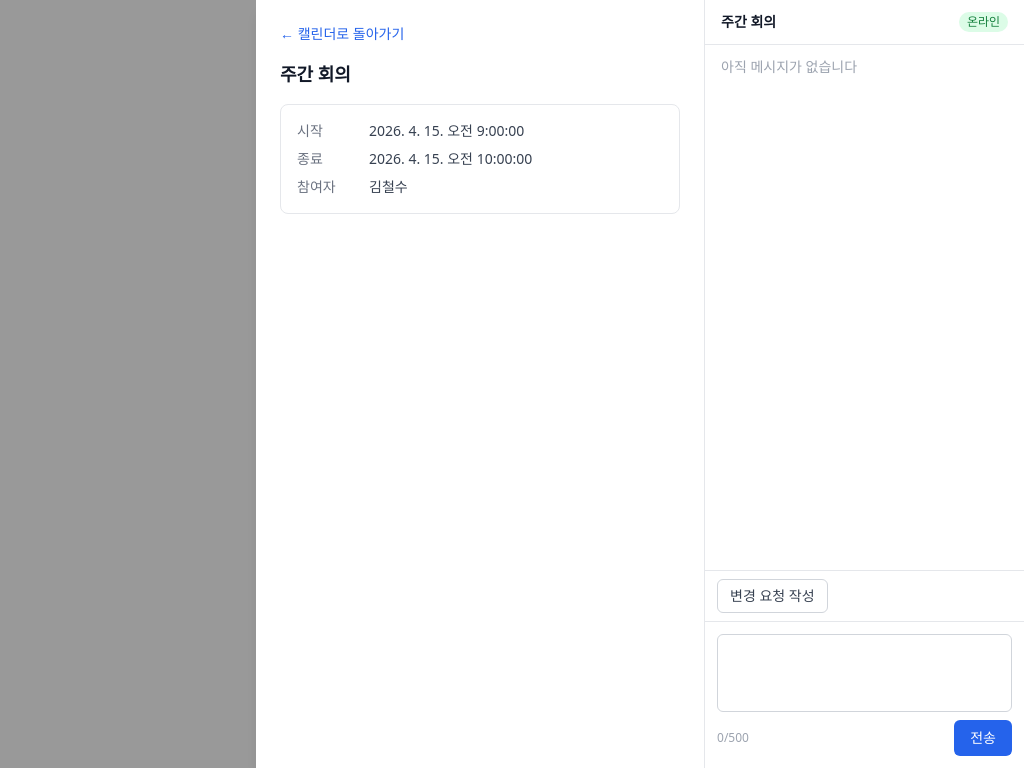
Scenario: ScheduleChatPanel - 변경 요청 › 변경 요청 제출에 성공하면 모달이 닫히고 대기중 카드가 메시지 목록에 표시된다
Step 1. Click the button "변경 요청 작성" → (772,596), box [717,579,828,613]
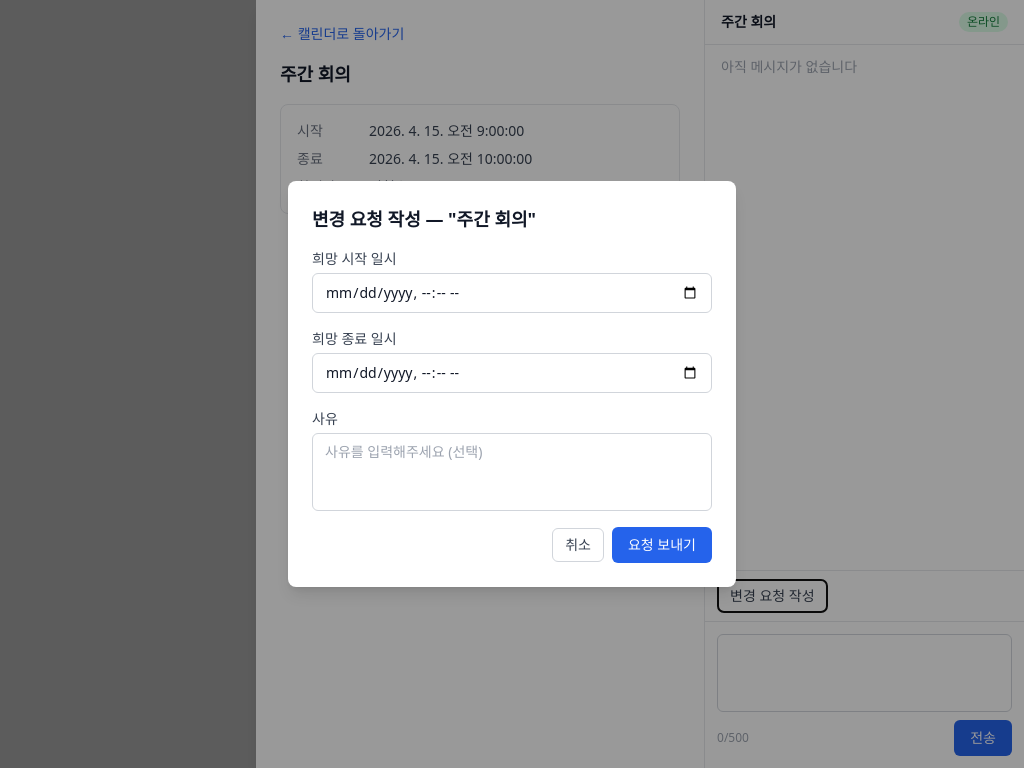
Step 2. Type "2026-04-20T09:00" into the field labelled "희망 시작 일시" → (512,293), box [312,273,712,313]
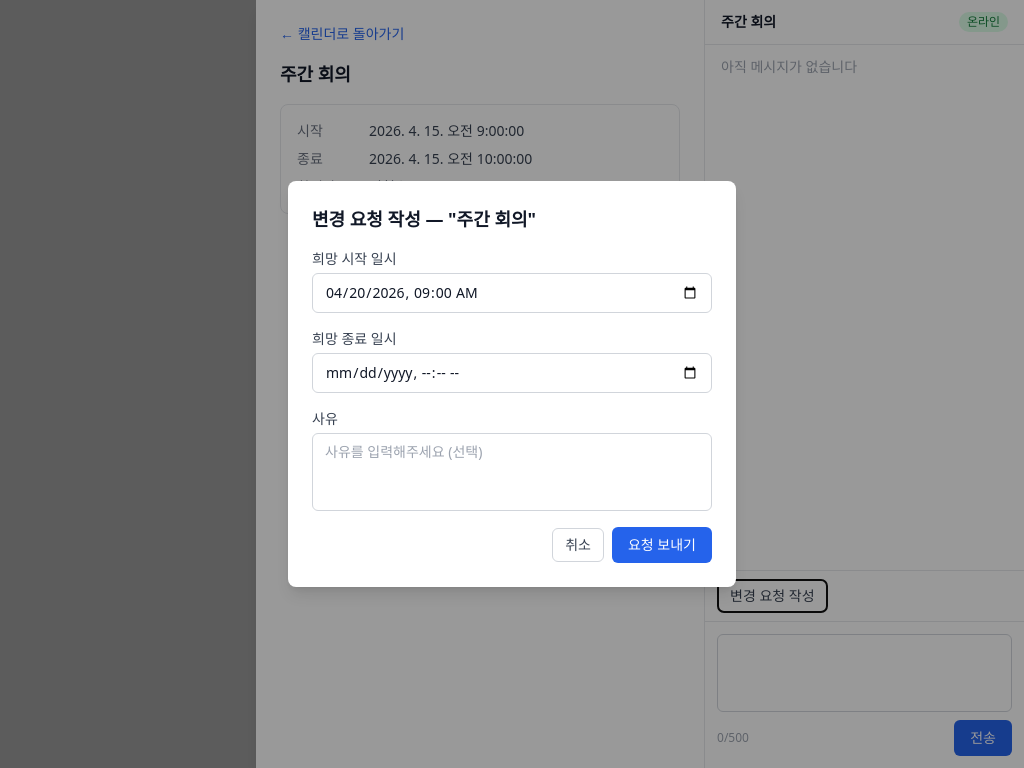
Step 3. Type "2026-04-20T10:00" into the field labelled "희망 종료 일시" → (512,373), box [312,353,712,393]
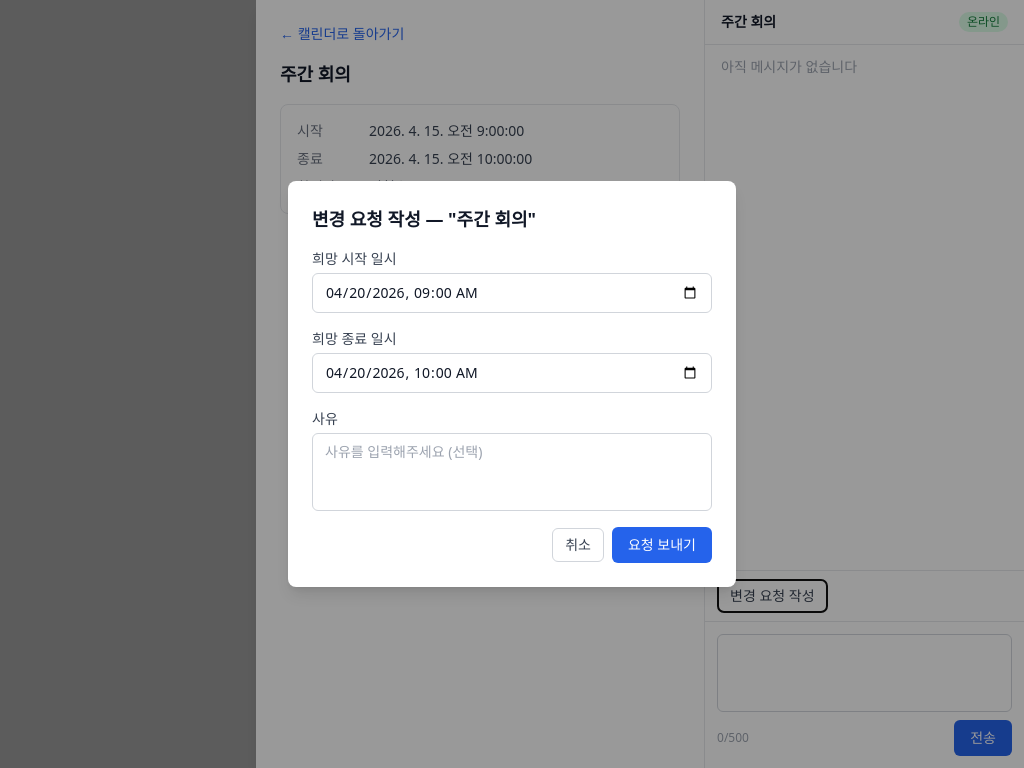
Step 4. Type "회의실 변경 필요" into the text box labelled "사유" → (512,472), box [312,433,712,511]
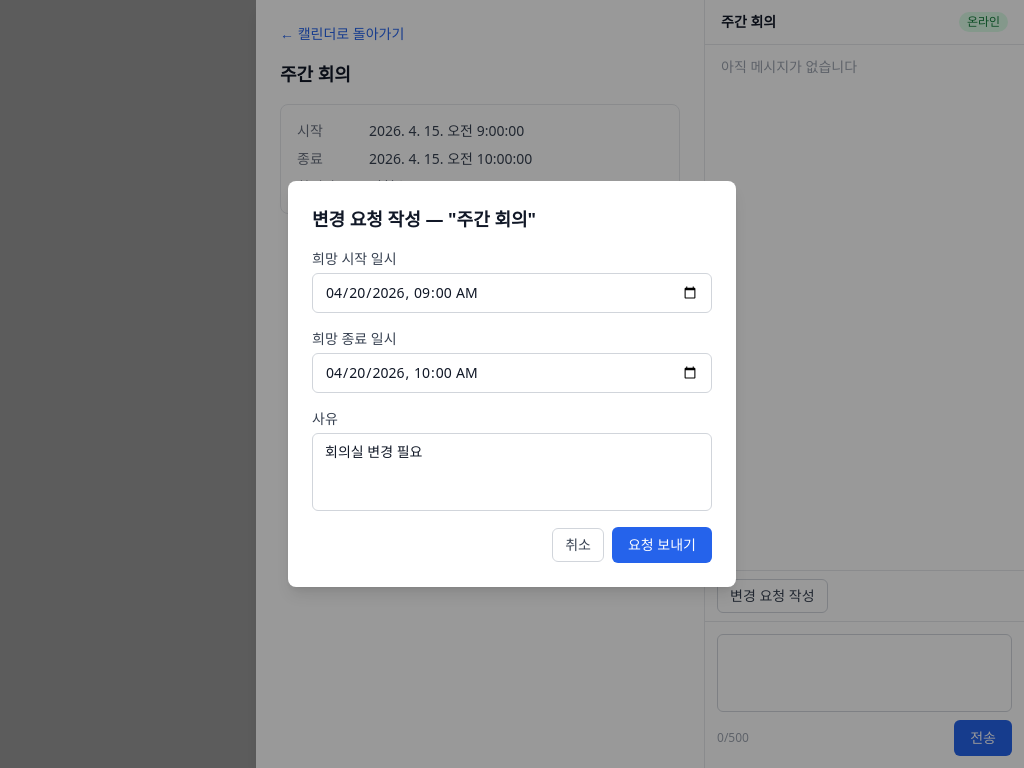
Step 5. Click the button "요청 보내기" → (662,545), box [612,527,712,563]
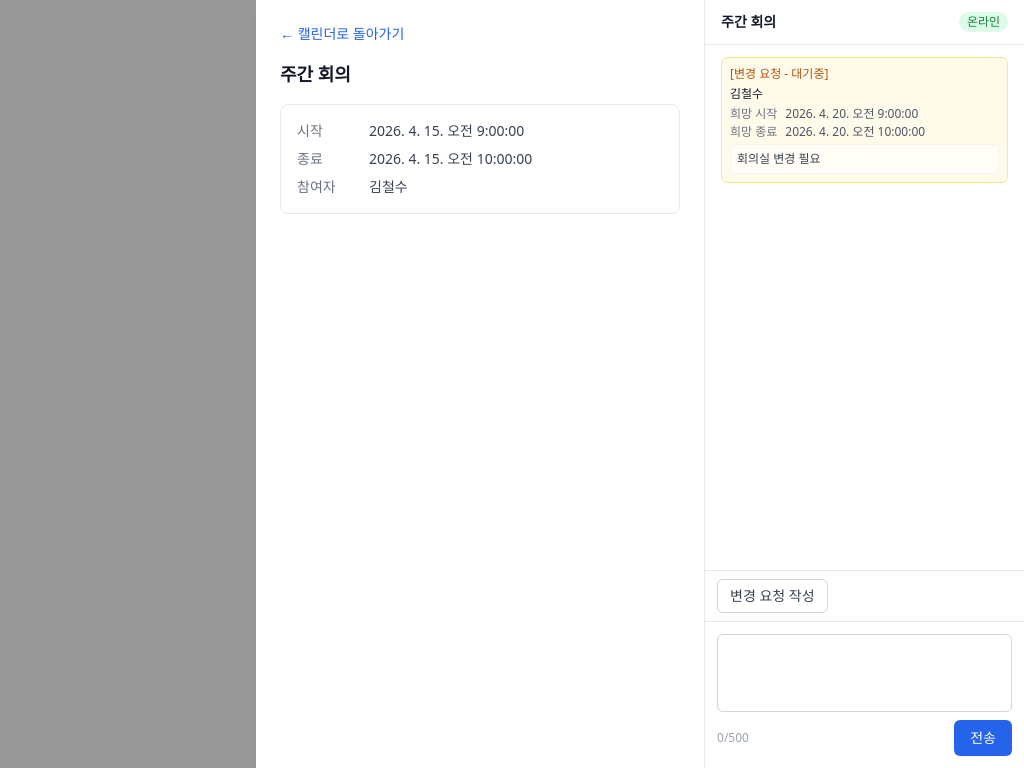
Now the label labelled "희망 시작 일시" is gone
Now the text "김철수" below "[변경 요청 - 대기중]" is shown, box [730,85,763,102]
Now the text "회의실 변경 필요" is shown, box [730,144,999,174]
